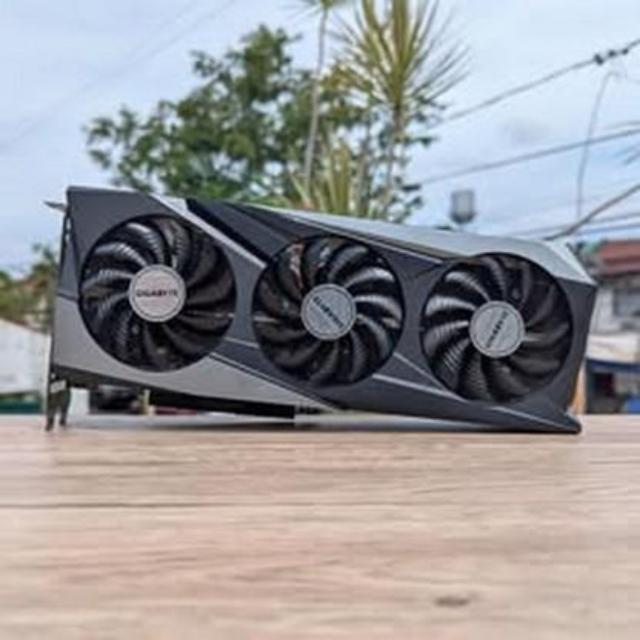GPU: (51, 176, 600, 438)
